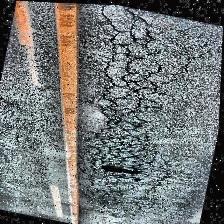pothole: (100, 156, 144, 180)
